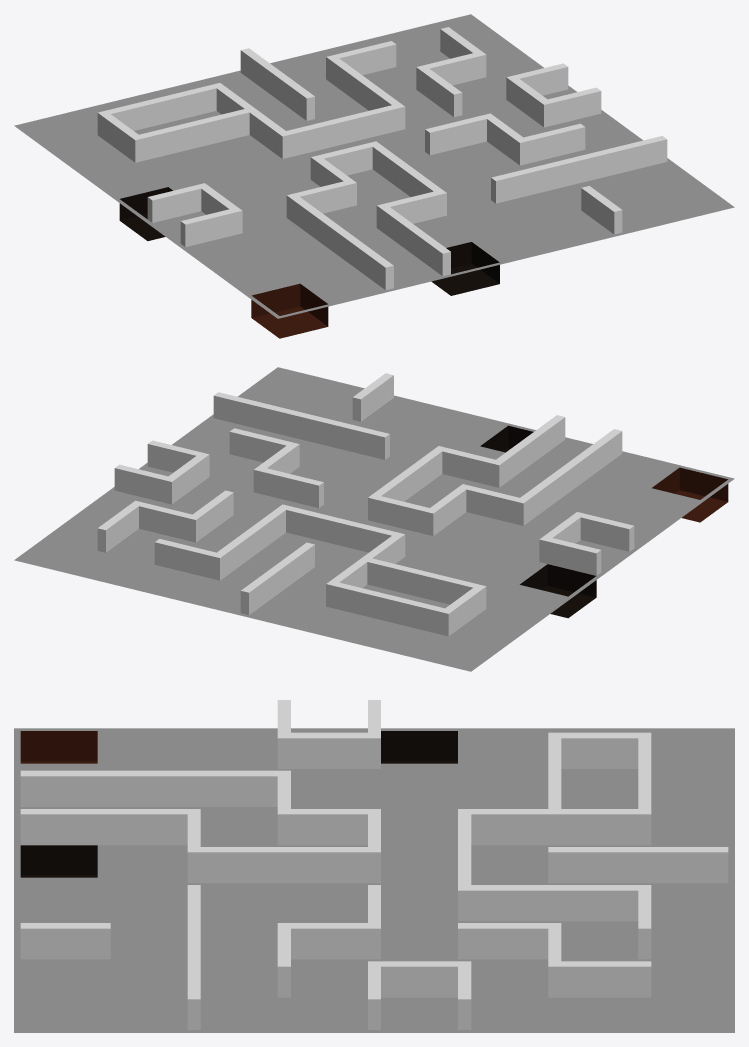
File: easiercolourmixing.FBX
3 views of the same model, one above another, from view 1: azimuth 30°, elevation 25°; view 2: azimuth 150°, elevation 25°; view 3: azimuth 270°, elevation 25° (orthographic). The views are drawn at different scales.
Parts seen in each view (by area): view 1: FloorThree, InnerWallsLevel2; view 2: FloorThree, InnerWallsLevel2; view 3: FloorThree, InnerWallsLevel2.
Part boxes in pixels (x1,y1,x2,y2): FloorThree: (14, 14, 734, 338); InnerWallsLevel2: (97, 27, 667, 290); FloorThree: (14, 367, 734, 671); InnerWallsLevel2: (97, 373, 634, 636); FloorThree: (14, 728, 734, 1032); InnerWallsLevel2: (20, 700, 728, 1029).
Size of the model in its own units: 551 by 52 by 551.
